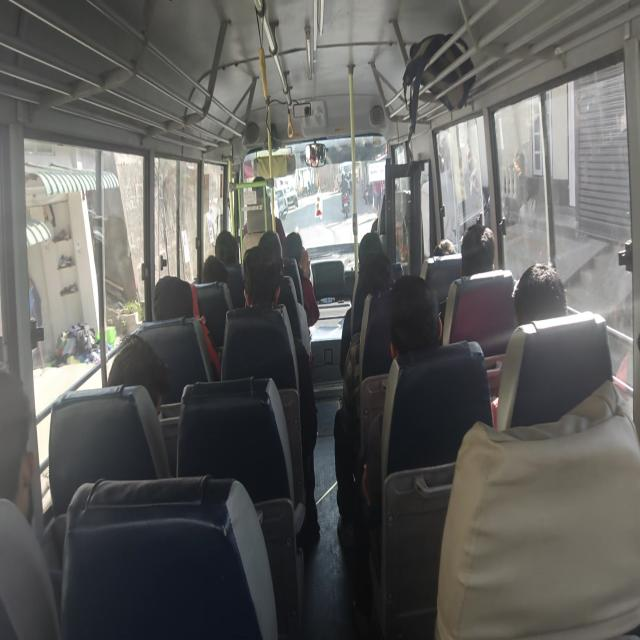person: (0, 363, 60, 499), (387, 283, 447, 377), (96, 333, 164, 413), (516, 256, 580, 334), (148, 271, 194, 341), (244, 254, 284, 329), (456, 210, 496, 274), (366, 251, 404, 306), (208, 223, 244, 275), (199, 254, 229, 293), (432, 227, 462, 264), (262, 231, 286, 276), (356, 228, 386, 259), (285, 230, 306, 262)
